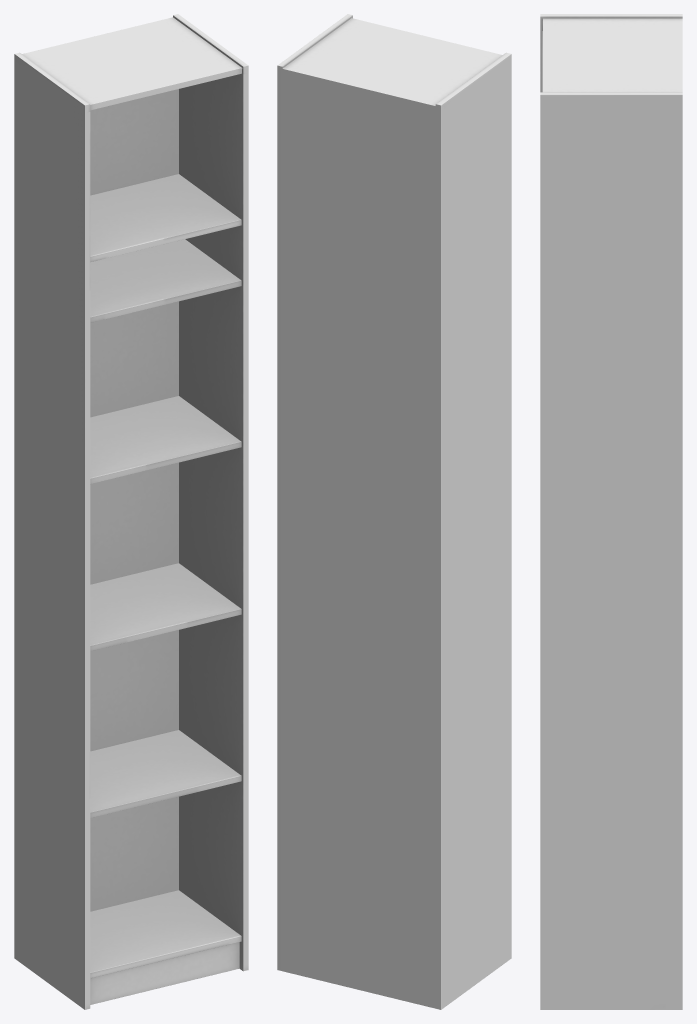
The model's file is Shelve_007White.gltf.
3 views of the same model, side by side, from view 1: azimuth 30°, elevation 25°; view 2: azimuth 150°, elevation 25°; view 3: azimuth 270°, elevation 25° (orthographic).
Parts seen in each view (by area): view 1: Shelve_007; view 2: Shelve_007; view 3: Shelve_007.
Boxes of the visible parts, x1,y1,x2,y2 form: Shelve_007: (14, 14, 248, 1009); Shelve_007: (277, 14, 511, 1009); Shelve_007: (540, 14, 682, 1009).
Size of the model in its own units: 0.3792 by 2 by 0.2826.
Materials: 1 (1 with a texture image).
